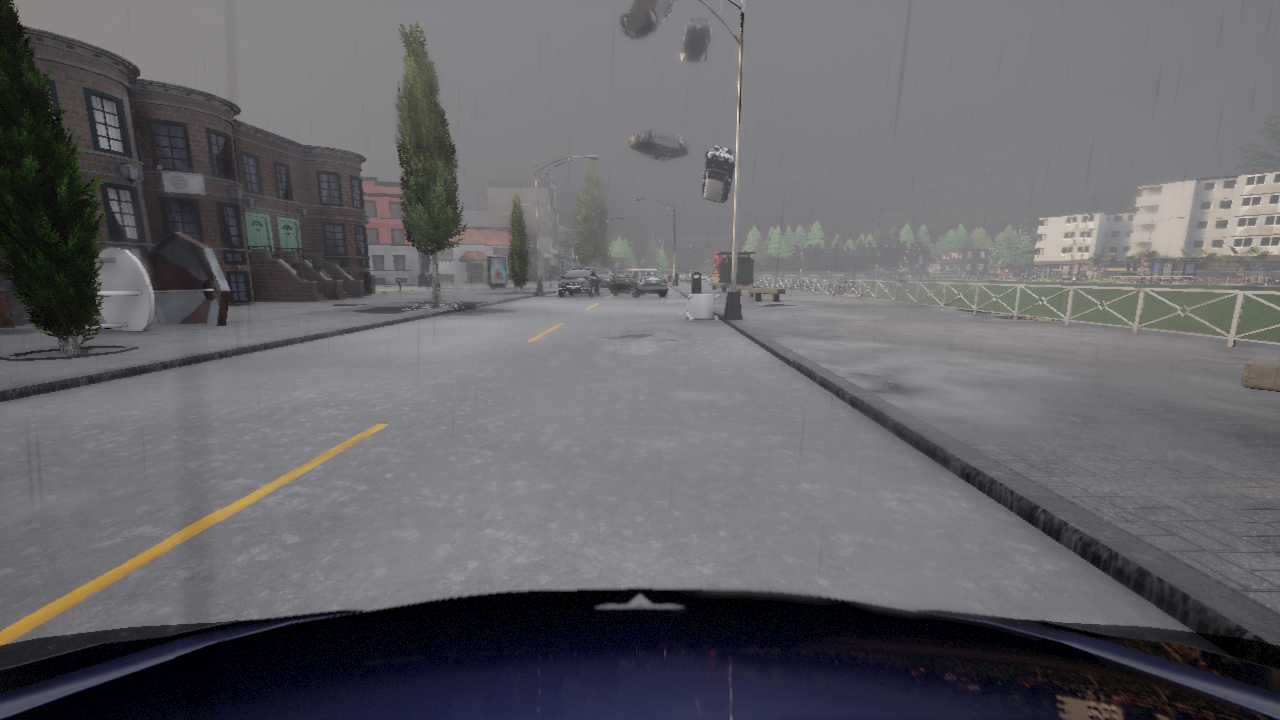cyclist: (0, 588, 1279, 719), (620, 0, 676, 38), (628, 128, 688, 160), (702, 146, 735, 202), (611, 269, 667, 297), (679, 18, 710, 61), (558, 268, 600, 296), (593, 268, 614, 289)
pedestrian: (549, 265, 551, 286)
